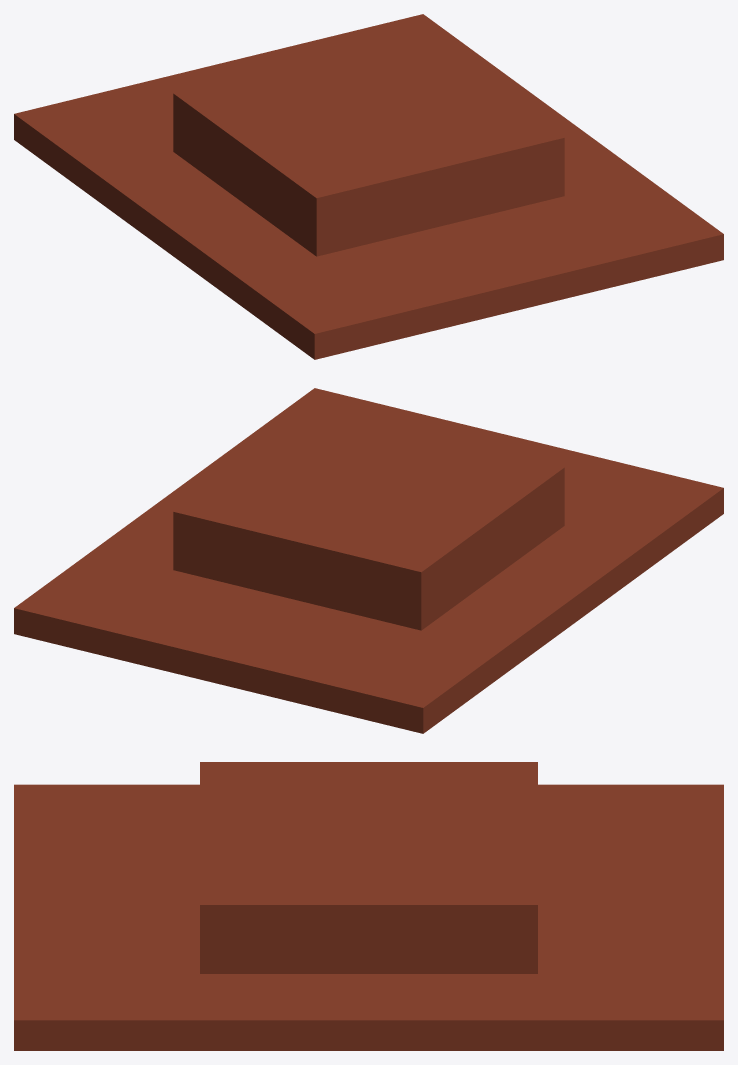
The model's file is roof.kit.vent_tile.glb.
3 views of the same model, one above another, from view 1: azimuth 30°, elevation 25°; view 2: azimuth 150°, elevation 25°; view 3: azimuth 270°, elevation 25° (orthographic). The views are drawn at different scales.
Parts seen in each view (by area): view 1: main__clay_tile; view 2: main__clay_tile; view 3: main__clay_tile.
Boxes of the visible parts, x1,y1,x2,y2 form: main__clay_tile: [14, 14, 723, 359]; main__clay_tile: [14, 388, 723, 733]; main__clay_tile: [14, 762, 723, 1050].
Bounding box in the file's own units: 0.33 × 0.065 × 0.42.
